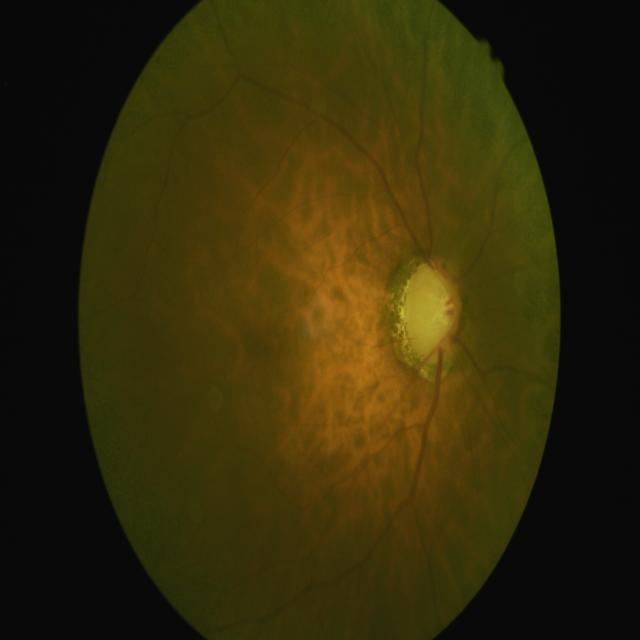cup: (410, 270, 454, 354)
disk: (405, 260, 463, 362)
